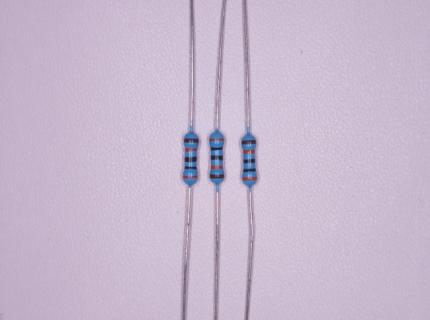Black band: (185, 156, 197, 163), (243, 159, 256, 164), (211, 155, 223, 160), (243, 169, 256, 173), (210, 147, 223, 151), (184, 166, 197, 170)
Brown band: (183, 138, 199, 144), (241, 140, 257, 145), (210, 174, 225, 179)
Orange band: (182, 175, 198, 180), (242, 176, 257, 181), (209, 138, 225, 142), (211, 165, 223, 170), (243, 149, 255, 154), (185, 148, 197, 152)
